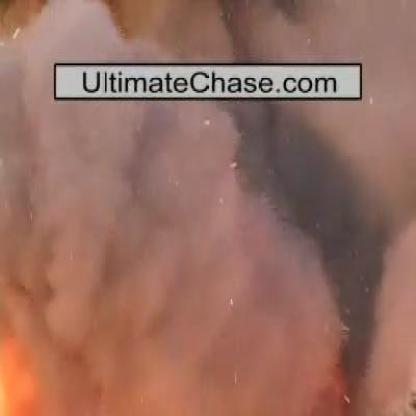-: (21, 103, 371, 336), (31, 4, 366, 61)
